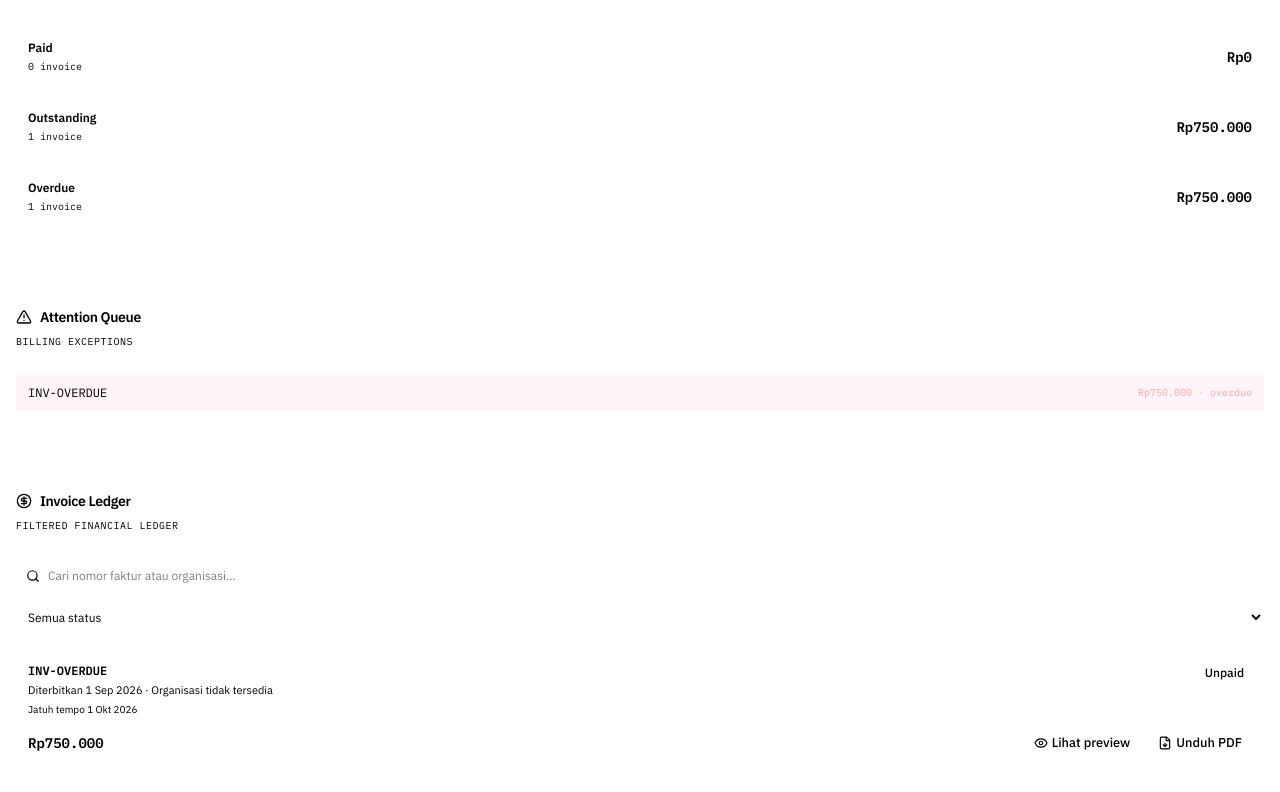
Monetization Control Center V2 › surfaces overdue invoices as an actionable financial exception
(page scrolled)
expect the text "Attention Queue" is shown: met, box [40,307,141,327]
expect the text "INV-OVERDUE" below "Billing exceptions" is shown: met, box [28,385,107,400]
Click the button "INV-OVERDUE Rp750.000 · overdue".
click(68, 392)  # box [16,375,1264,411]
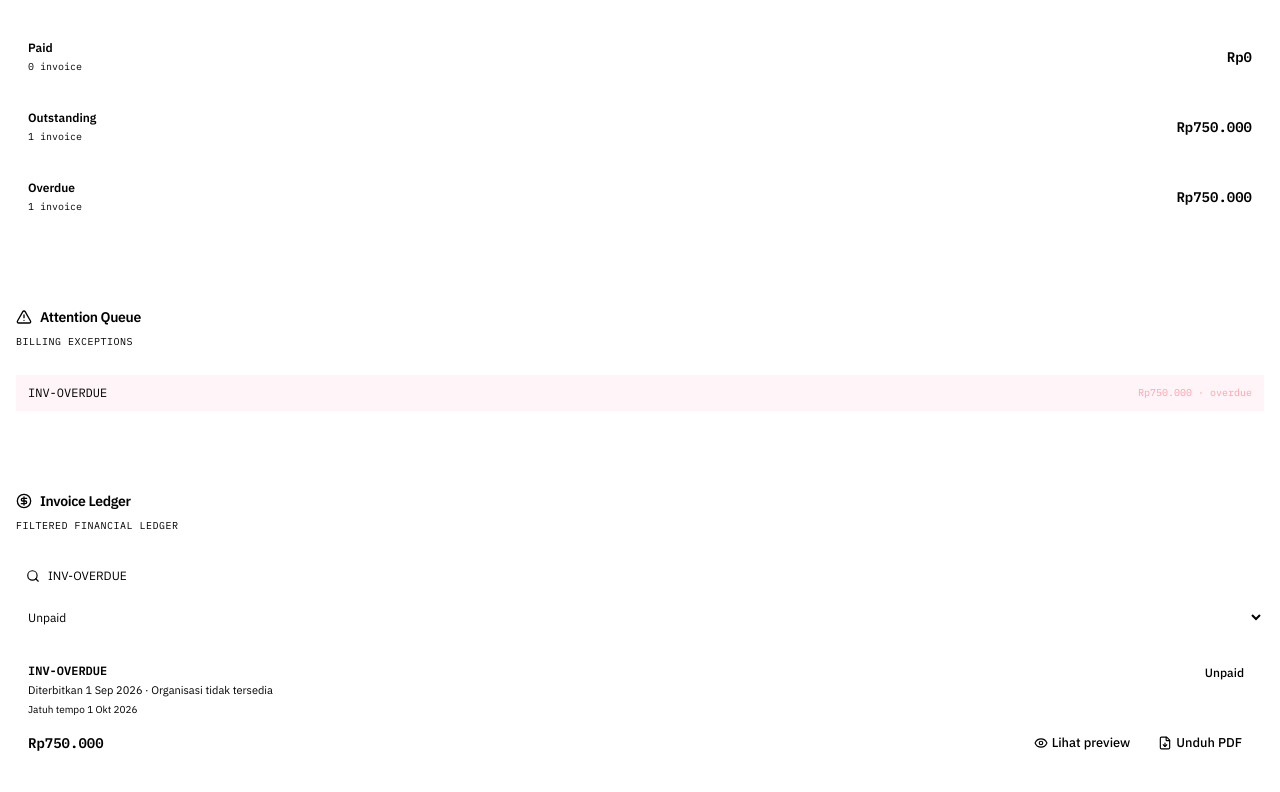
expect the field named "Cari faktur" holds "INV-OVERDUE": met, box [16,559,1264,591]
